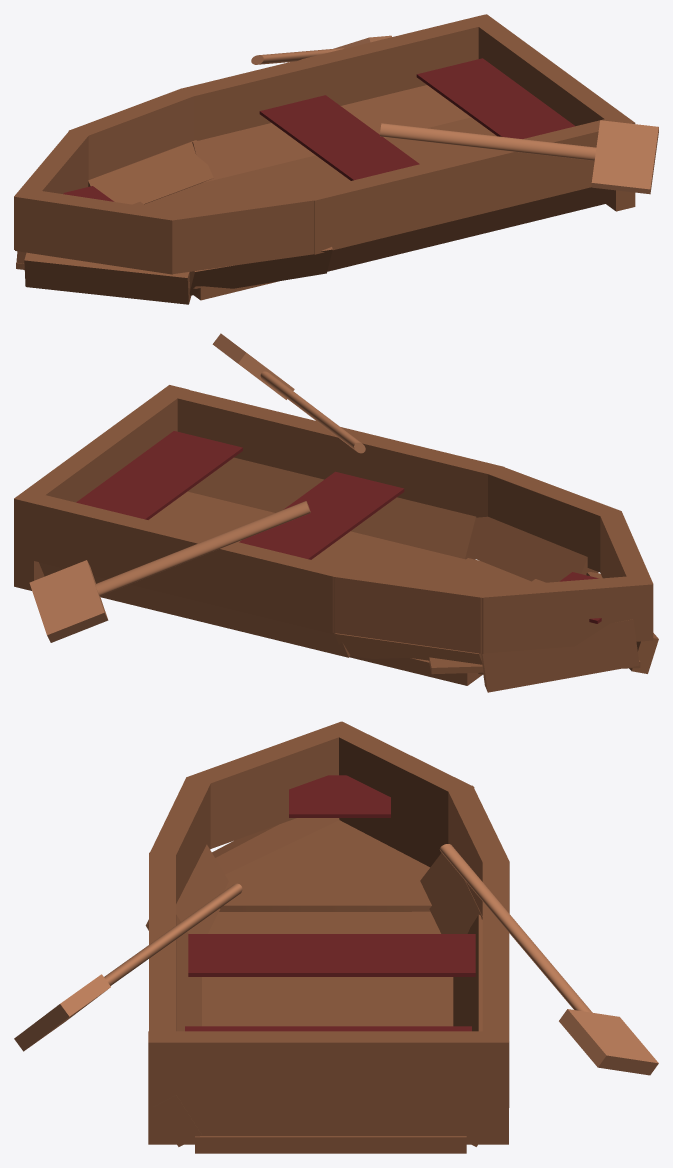
Rendered from Beach_Boat.glb.
The picture shows the model from 3 angles, top to bottom: view 1: azimuth 30°, elevation 25°; view 2: azimuth 150°, elevation 25°; view 3: azimuth 270°, elevation 25°; orthographic projection. The views are drawn at different scales.
Parts seen in each view (by area): view 1: mesh_id185, mesh_id179, mesh_id119, mesh_id173, mesh_id206, mesh_id356, mesh_id196, mesh_id368, mesh_id362, mesh_id140, mesh_id341, mesh_id351 (+6 smaller); view 2: mesh_id179, mesh_id185, mesh_id113.001, mesh_id140, mesh_id356, mesh_id341, mesh_id196, mesh_id362, mesh_id173, mesh_id368, mesh_id285, mesh_id206 (+9 smaller); view 3: mesh_id196, mesh_id356, mesh_id357, mesh_id368, mesh_id119, mesh_id113.001, mesh_id185, mesh_id179, mesh_id173, mesh_id378, mesh_id374, mesh_id140 (+10 smaller).
Part boxes in pixels (box(x1,y1,x2,y2)): mesh_id185: box(304, 119, 606, 254); mesh_id179: box(183, 15, 482, 140); mesh_id119: box(15, 188, 179, 274); mesh_id173: box(165, 191, 315, 274); mesh_id206: box(192, 85, 470, 182); mesh_id356: box(144, 117, 496, 300); mesh_id196: box(468, 14, 635, 211); mesh_id368: box(259, 95, 419, 180); mesh_id362: box(416, 58, 575, 138); mesh_id140: box(69, 88, 196, 179); mesh_id341: box(327, 187, 609, 271); mesh_id351: box(24, 252, 191, 304); mesh_id179: box(15, 495, 341, 634); mesh_id185: box(173, 387, 503, 517); mesh_id113.001: box(476, 574, 652, 653); mesh_id140: box(332, 567, 489, 653); mesh_id356: box(148, 491, 531, 685); mesh_id341: box(187, 457, 476, 559); mesh_id196: box(14, 385, 188, 590); mesh_id362: box(76, 431, 242, 519); mesh_id173: box(488, 467, 621, 572); mesh_id368: box(239, 471, 404, 559); mesh_id285: box(481, 619, 639, 692); mesh_id206: box(39, 562, 350, 657); mesh_id196: box(148, 1031, 508, 1144); mesh_id356: box(195, 911, 466, 1153); mesh_id357: box(219, 820, 431, 911); mesh_id368: box(188, 934, 475, 976); mesh_id119: box(186, 721, 357, 848); mesh_id113.001: box(322, 721, 474, 852); mesh_id185: box(149, 852, 175, 1041); mesh_id179: box(482, 862, 509, 1107); mesh_id173: box(149, 777, 212, 903); mesh_id378: box(559, 1009, 658, 1075); mesh_id374: box(289, 775, 390, 817); mesh_id140: box(448, 785, 509, 915).
Size of the model in its own units: 1.25 by 0.2948 by 1.06.
Materials: 8 (8 with a texture image).
